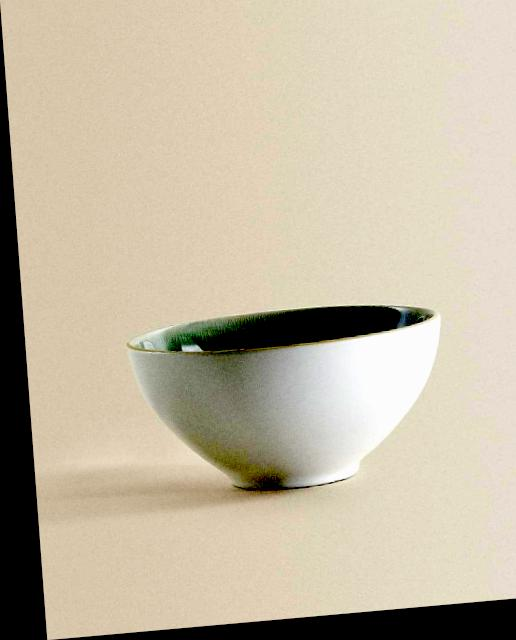Bowl: (128, 305, 440, 489)
